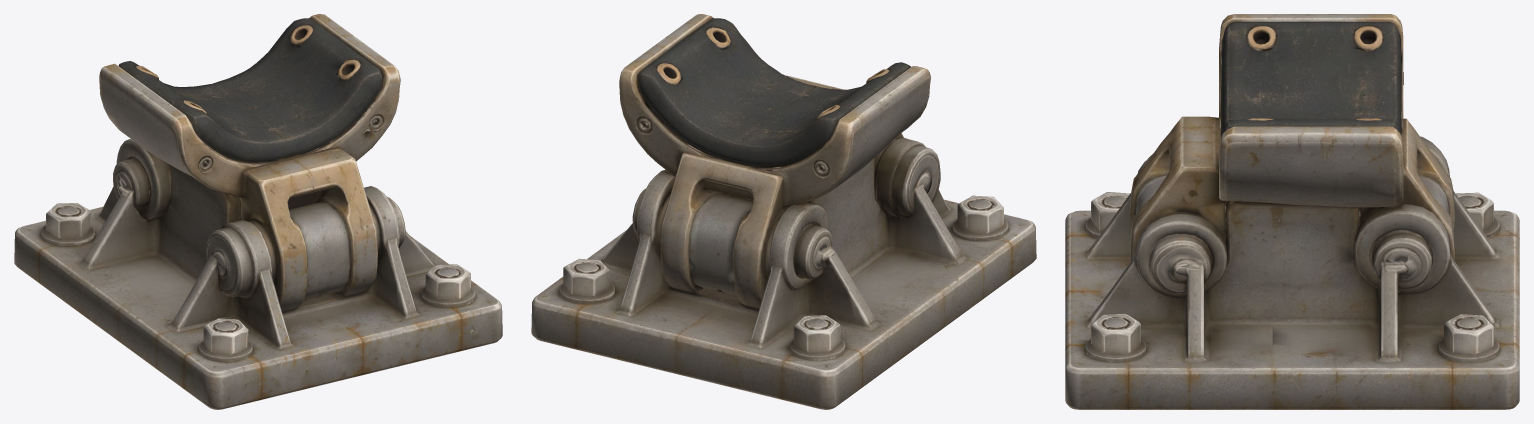
Rendered from SM_Probe_PivotMount.fbx.
The picture shows the model from 3 angles, left to right: view 1: azimuth 30°, elevation 25°; view 2: azimuth 150°, elevation 25°; view 3: azimuth 270°, elevation 25°; orthographic projection. The views are drawn at different scales.
Visible parts, largest first — view 1: SM_Probe_PivotMount; view 2: SM_Probe_PivotMount; view 3: SM_Probe_PivotMount.
Part boxes in pixels (x1,y1,x2,y2): SM_Probe_PivotMount: (14, 14, 502, 409); SM_Probe_PivotMount: (531, 14, 1036, 409); SM_Probe_PivotMount: (1065, 14, 1519, 409).
Size of the model in its own units: 0.23 by 0.1721 by 0.2739.
Materials: 1 (1 with a texture image).
